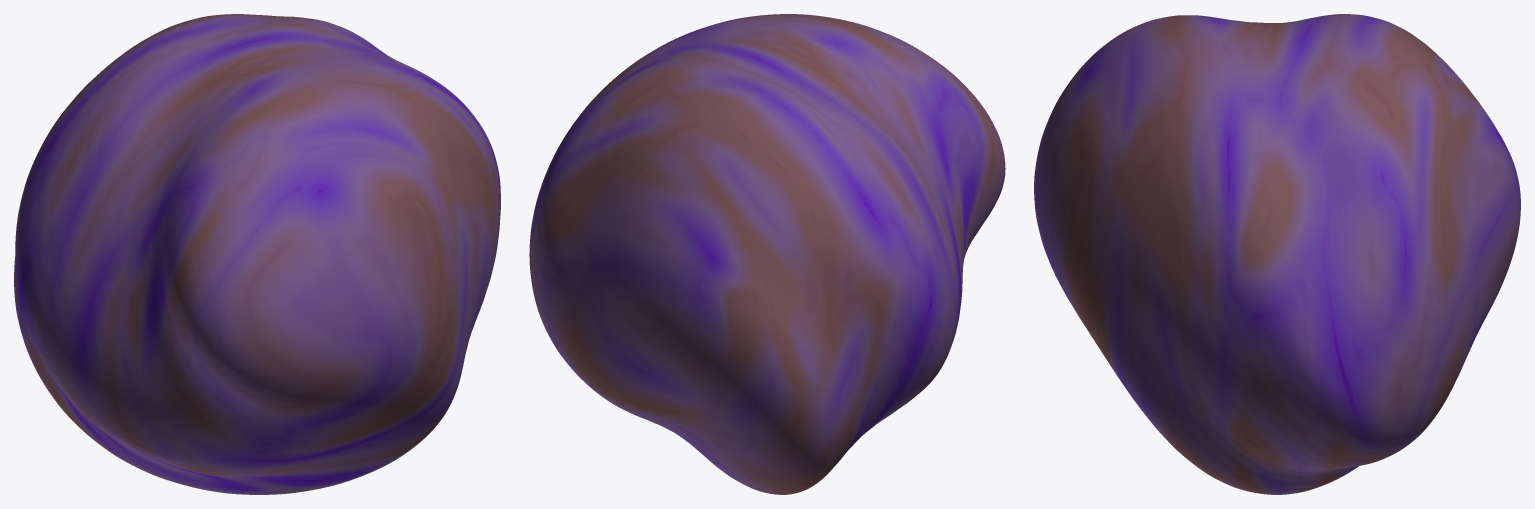
File: lunaEscorpio.glb
3 views of the same model, side by side, from view 1: azimuth 30°, elevation 25°; view 2: azimuth 150°, elevation 25°; view 3: azimuth 270°, elevation 25° (orthographic). The views are drawn at different scales.
Parts seen in each view (by area): view 1: lunaescorpio; view 2: lunaescorpio; view 3: lunaescorpio.
Part boxes in pixels (left/top/right/bottom): lunaescorpio: left=14, top=14, right=500, bottom=494; lunaescorpio: left=529, top=14, right=1005, bottom=494; lunaescorpio: left=1034, top=14, right=1520, bottom=494.
Size of the model in its own units: 0.6208 by 0.6034 by 0.6006.
1 material, 1 textured.
